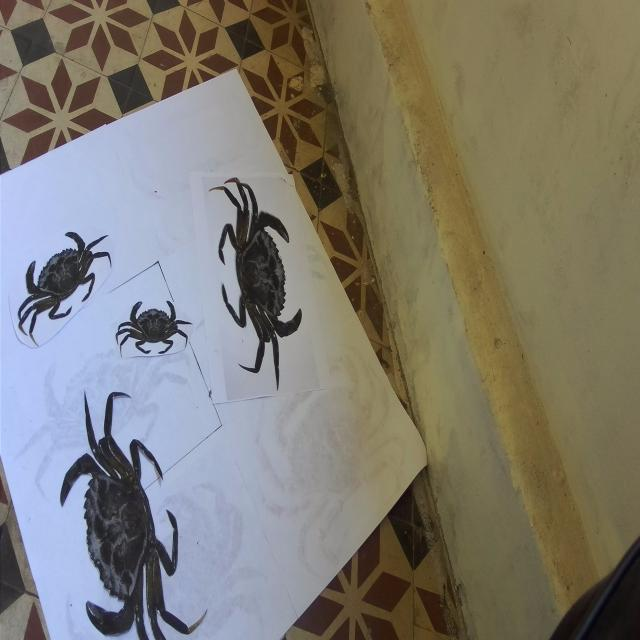European_Green_Crab: (208, 157, 311, 408), (6, 198, 119, 358), (114, 296, 194, 359), (0, 0, 0, 1)
